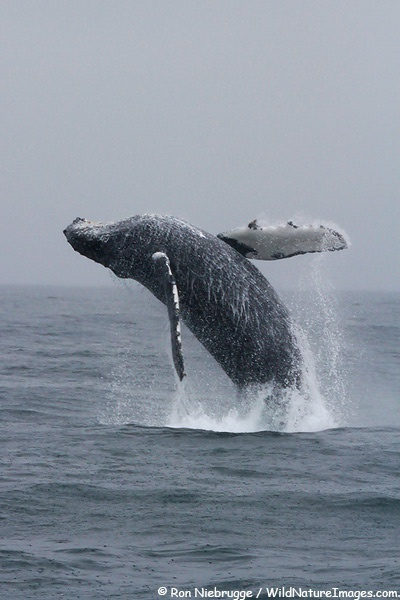humpback: (63, 207, 320, 425)
